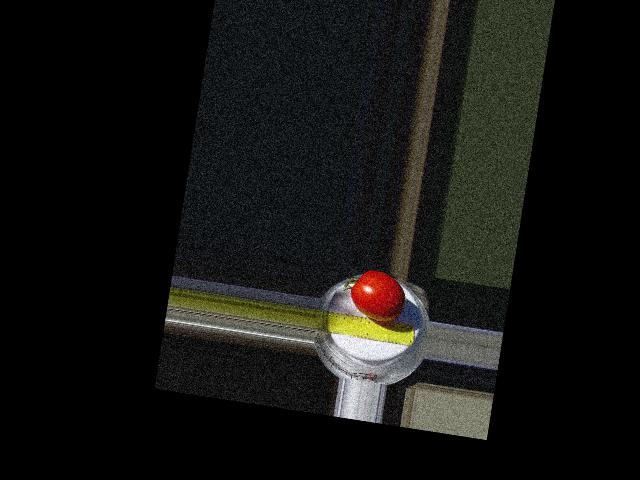tomato: (346, 267, 408, 325)
